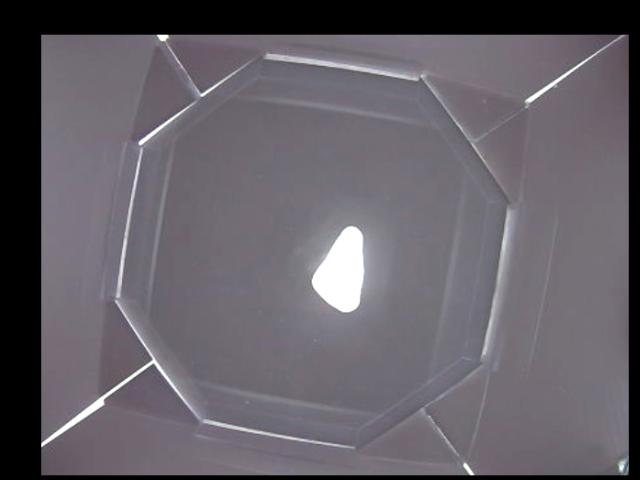Pebble: (312, 225, 362, 313)
